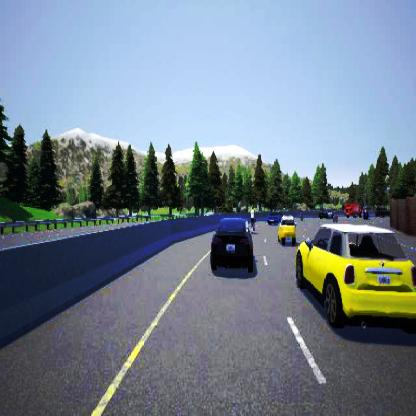bike: (248, 205, 256, 231)
vehicle: (295, 223, 415, 333), (210, 217, 253, 271), (266, 210, 296, 245), (344, 202, 368, 219)
